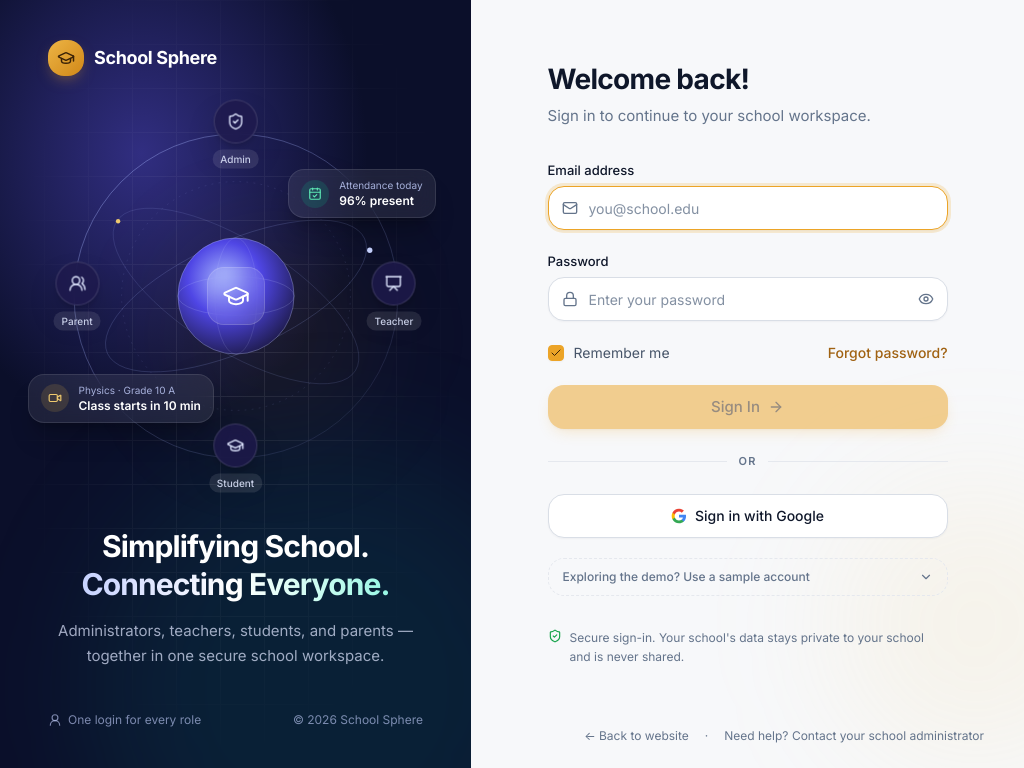
Test: LoginPage › shows the server's error and clears it as soon as the user edits the form
Type "someone@example.test" into the field labelled "Email address". click: (748, 208)
box: x1=548 y1=186 x2=948 y2=230
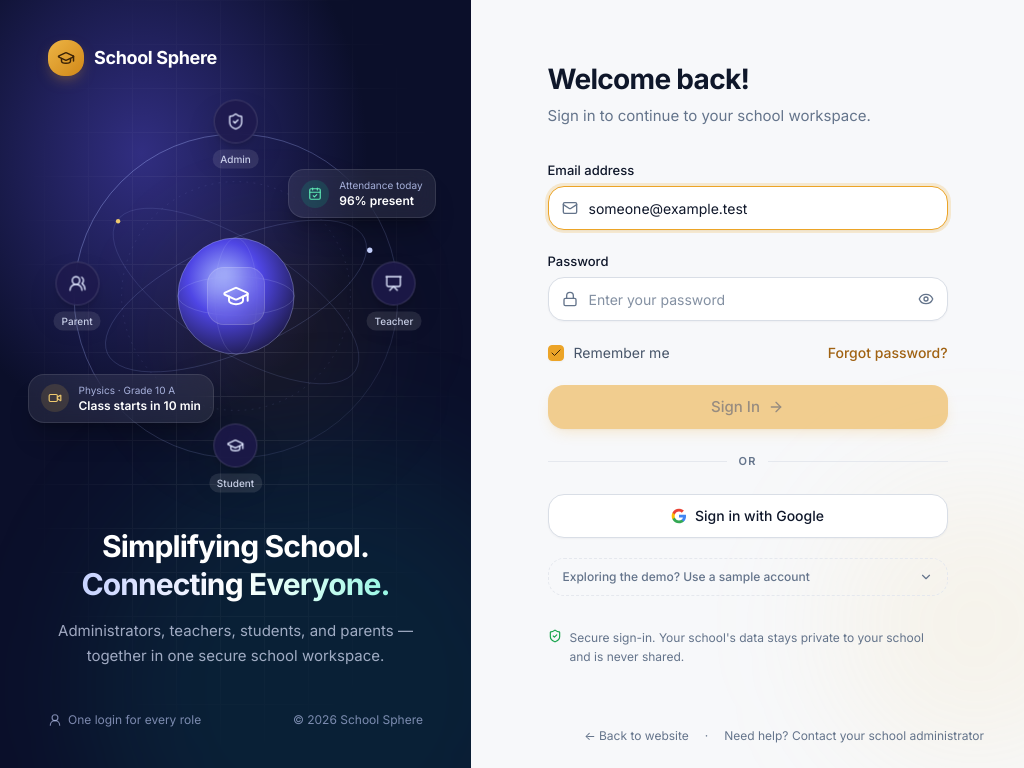
Type "not-a-real-secret" into the password field labelled "Password". click: (748, 299)
box: x1=548 y1=277 x2=948 y2=321
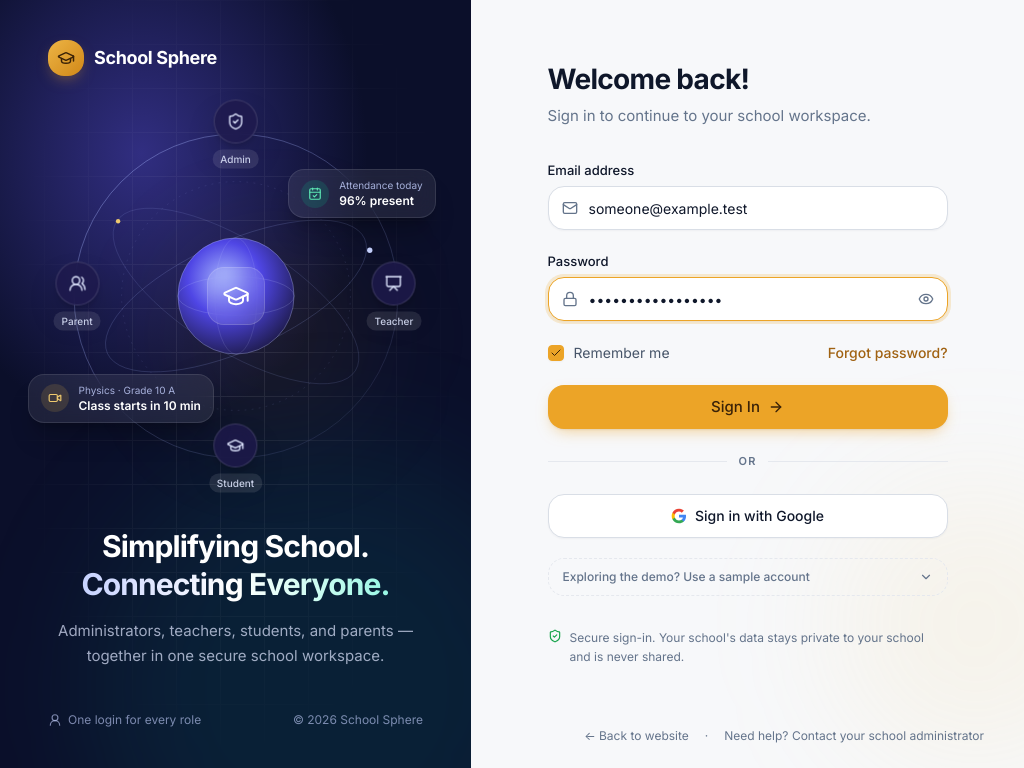
Click the button "Sign In". click: (748, 407)
box: x1=548 y1=385 x2=948 y2=429
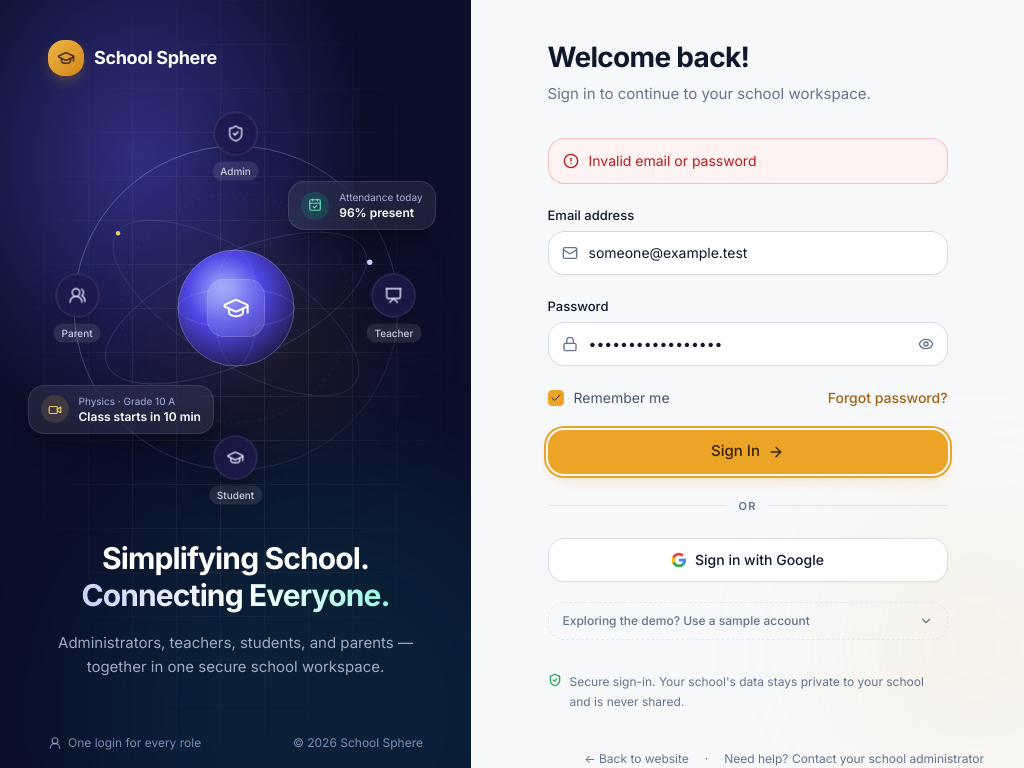
expect the text "Invalid email or password" is shown: met, box x1=588 y1=150 x2=756 y2=170
Type "x" into the password field labelled "Password". click: (748, 344)
box: x1=548 y1=322 x2=948 y2=366
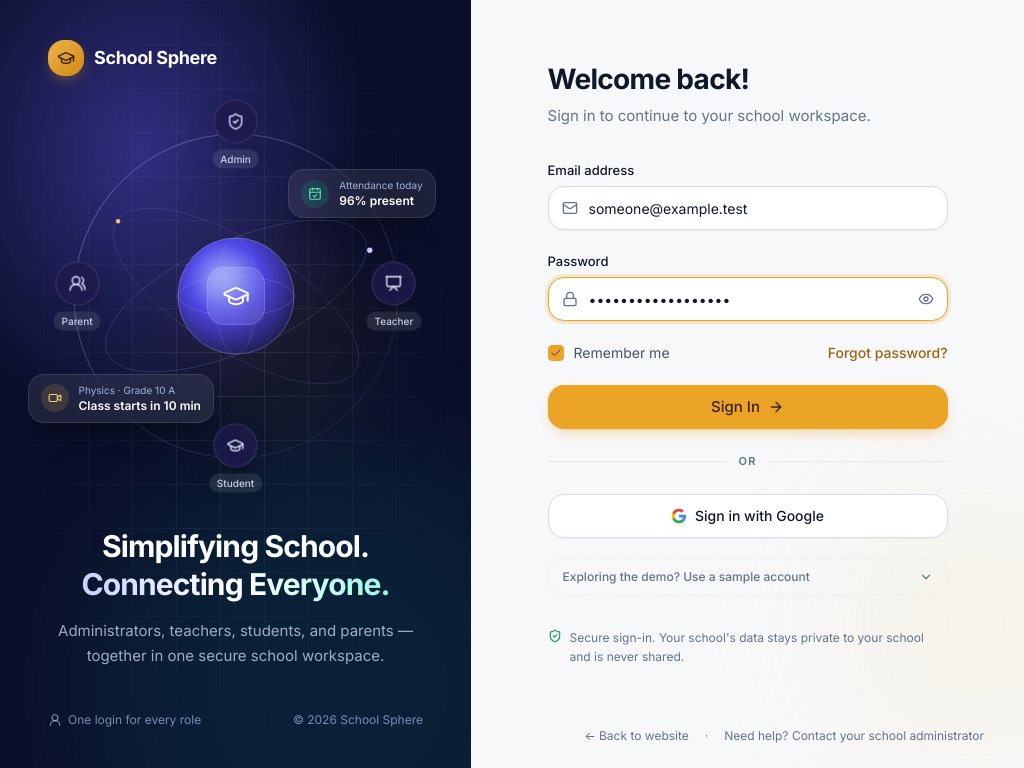
expect the text "Invalid email or password" is gone: met
